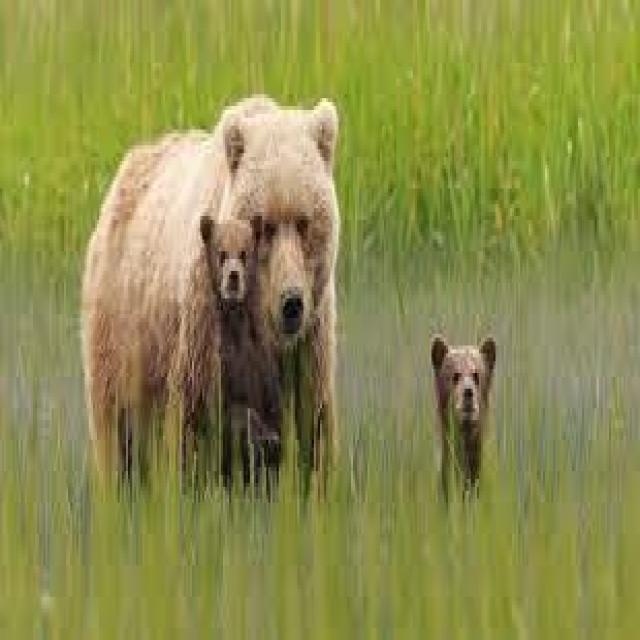Bear: (78, 94, 341, 483), (200, 220, 264, 412), (429, 338, 498, 499)
